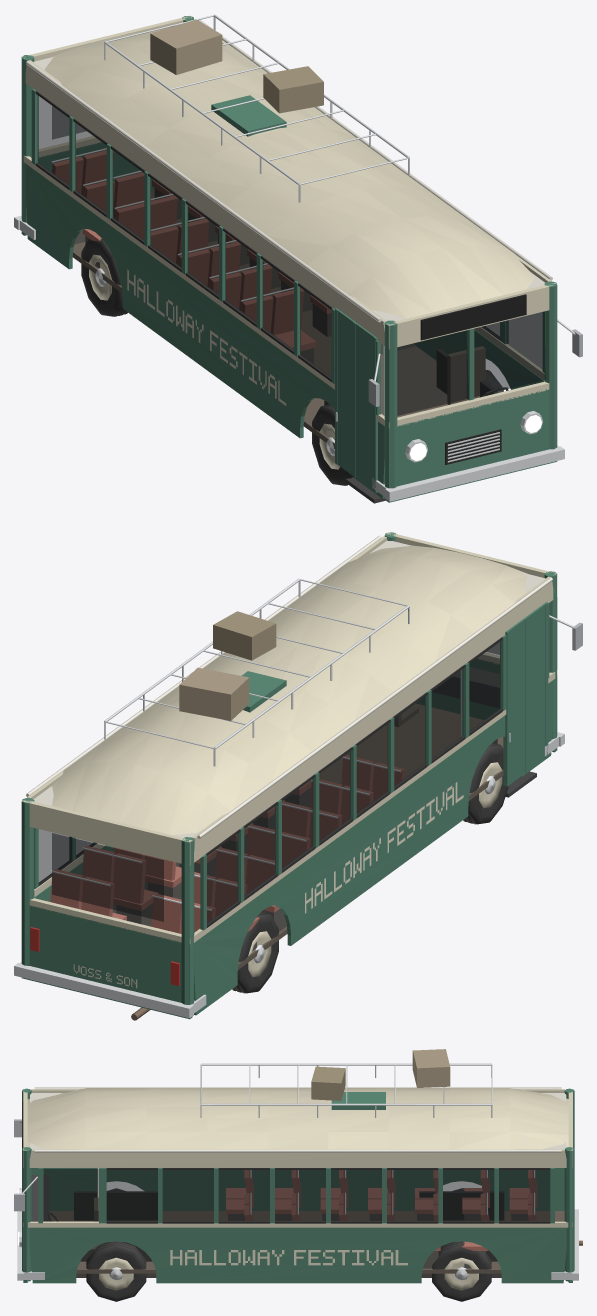
Rendered from festival_bus_restored_lod1.glb.
3 renders of one model, top to bottom at view 1: azimuth 30°, elevation 25°; view 2: azimuth 150°, elevation 25°; view 3: azimuth 270°, elevation 25°, orthographic. The views are drawn at different scales.
Visible parts, largest first — view 1: body, door, destination_board, wheel_rr, wheel_fr; view 2: body, door, wheel_rr, wheel_fr; view 3: body, wheel_fl, wheel_rl.
Part boxes in pixels (x1=…): body: x1=14, y1=14, x2=582, y2=503; door: x1=335, y1=308, x2=377, y2=492; destination_board: x1=420, y1=294, x2=526, y2=340; wheel_rr: x1=81, y1=238, x2=127, y2=316; wheel_fr: x1=312, y1=404, x2=353, y2=485; body: x1=14, y1=532, x2=582, y2=1020; door: x1=503, y1=602, x2=548, y2=786; wheel_rr: x1=232, y1=912, x2=278, y2=993; wheel_fr: x1=463, y1=743, x2=508, y2=824; body: x1=14, y1=1049, x2=582, y2=1283; wheel_fl: x1=86, y1=1241, x2=146, y2=1301; wheel_rl: x1=432, y1=1241, x2=491, y2=1301.
Size of what is drawn, in the model's own units: 2.95 by 3.82 by 9.39.
